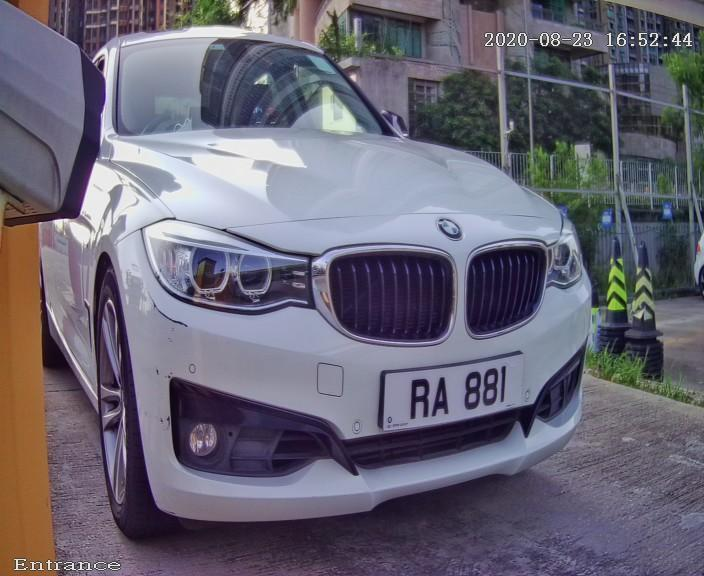Car: (35, 8, 639, 566)
License Plate: (347, 337, 542, 450)
